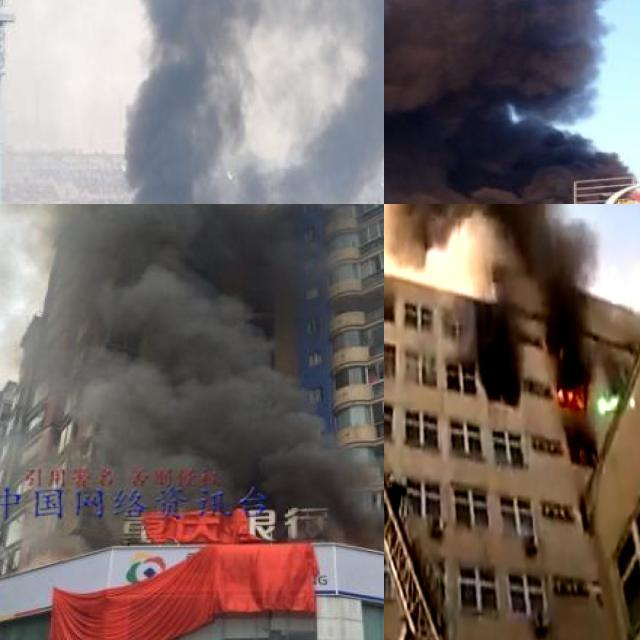fire: (556, 382, 586, 411)
smoke: (0, 204, 384, 549), (123, 0, 384, 204), (384, 0, 640, 204), (384, 204, 599, 378)
